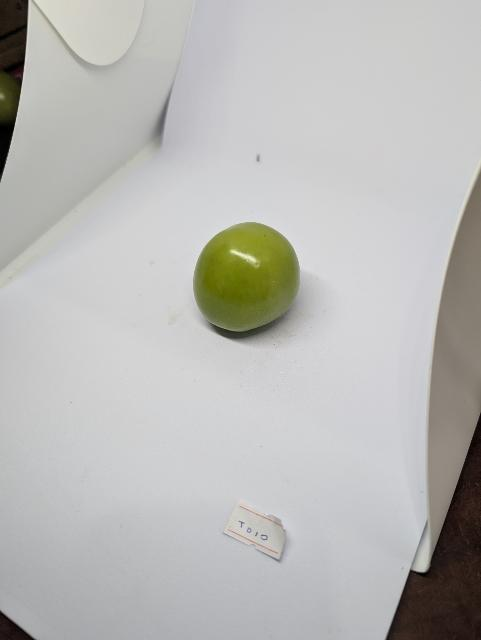green: (192, 220, 302, 336)
